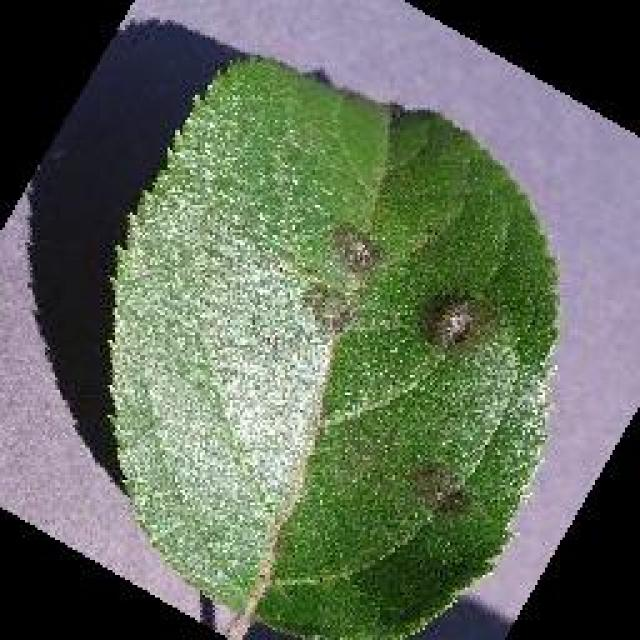apple scab disease: (100, 50, 562, 638)
